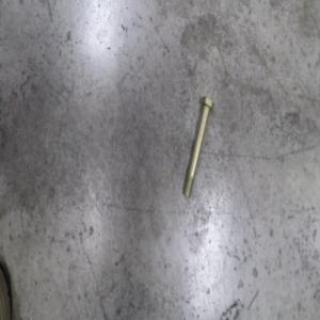Bolttrack_idkeyframe: (181, 95, 214, 200)
